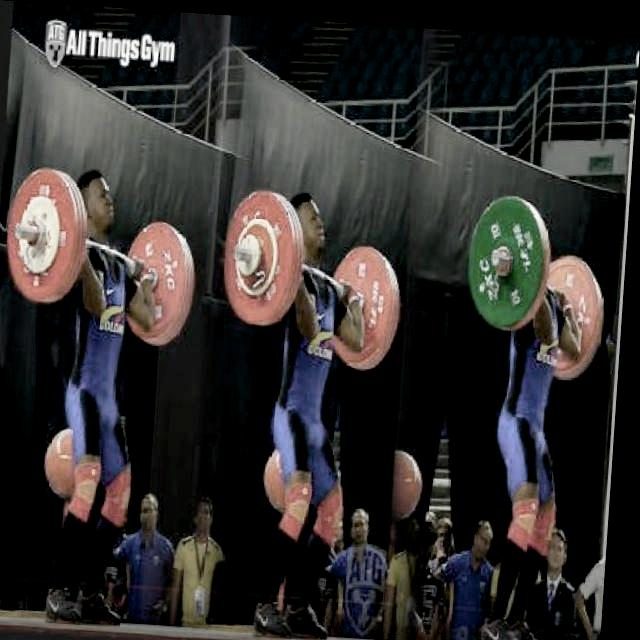barbell: (462, 188, 555, 325), (221, 182, 308, 325), (6, 162, 88, 306)
